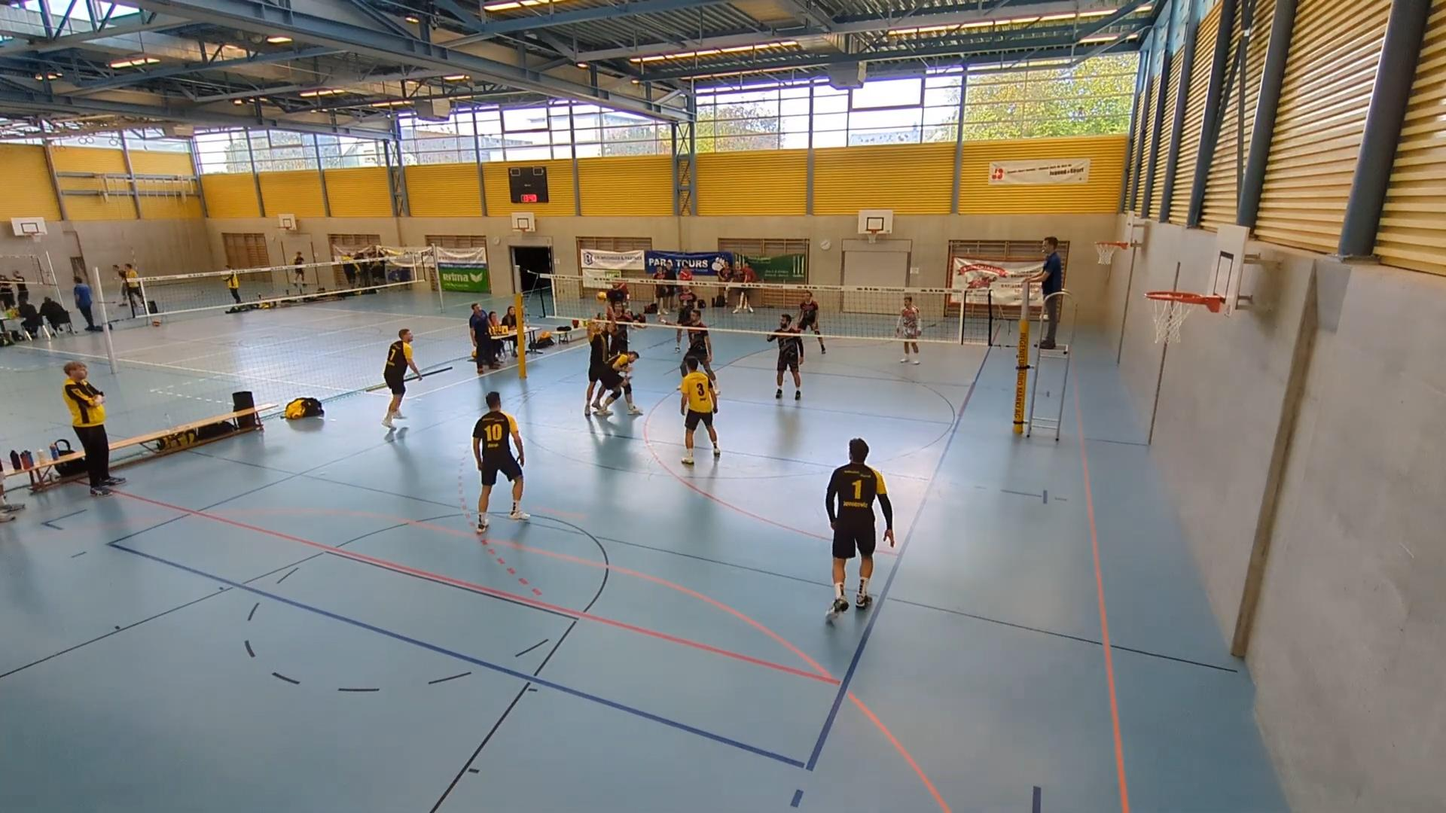Player: (826, 438, 894, 620), (473, 391, 529, 533), (680, 356, 721, 464), (382, 328, 421, 428), (767, 314, 802, 400), (595, 352, 642, 416), (680, 311, 715, 390), (798, 291, 826, 353), (896, 296, 920, 364), (675, 285, 697, 352)
Set: (583, 292, 618, 416)
